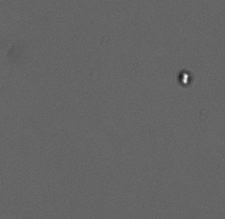Living Cell: (175, 67, 193, 87)
